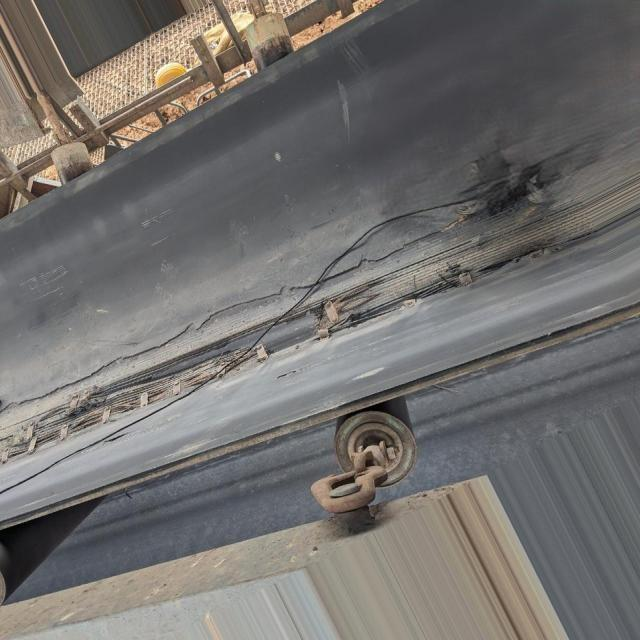Tear: (0, 208, 545, 455)
